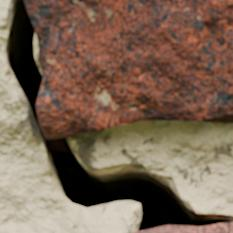brick: (25, 0, 232, 138), (141, 224, 232, 232)
crack: (0, 0, 232, 232)
